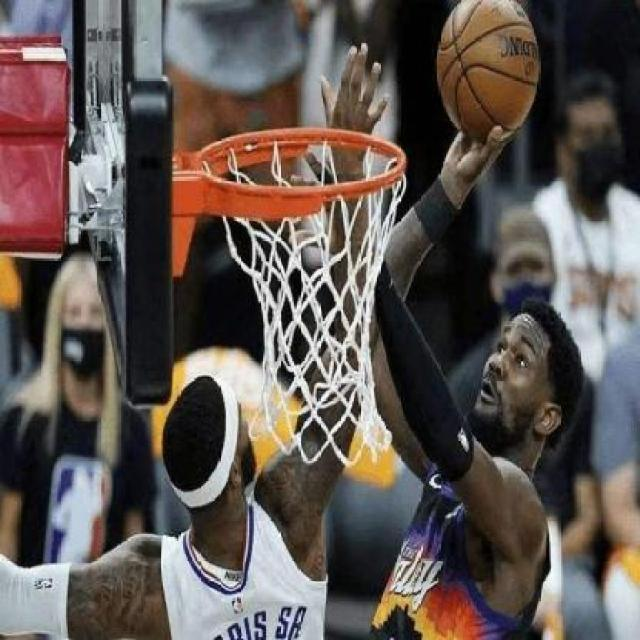basketball: (438, 0, 538, 140)
rim: (204, 125, 410, 468)
